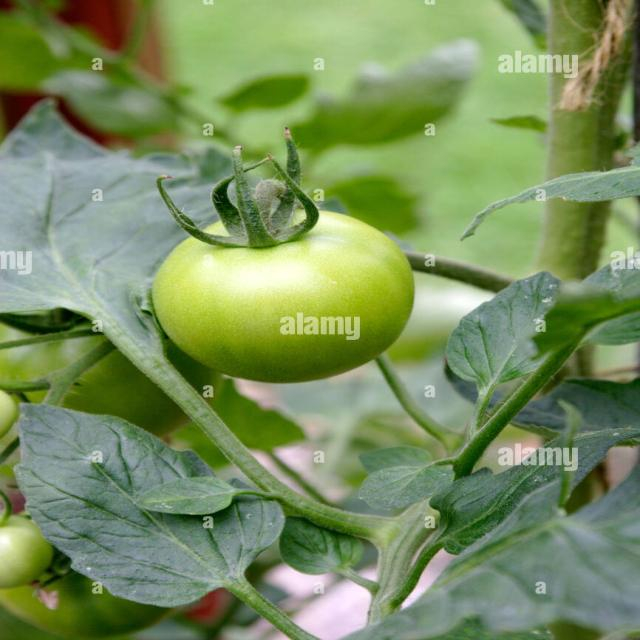kirmizi: (150, 165, 436, 382)
